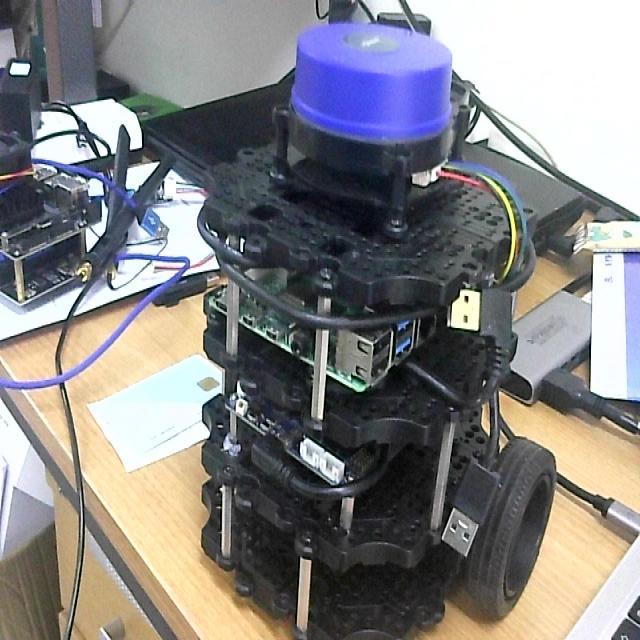turtle: (195, 18, 558, 640)
